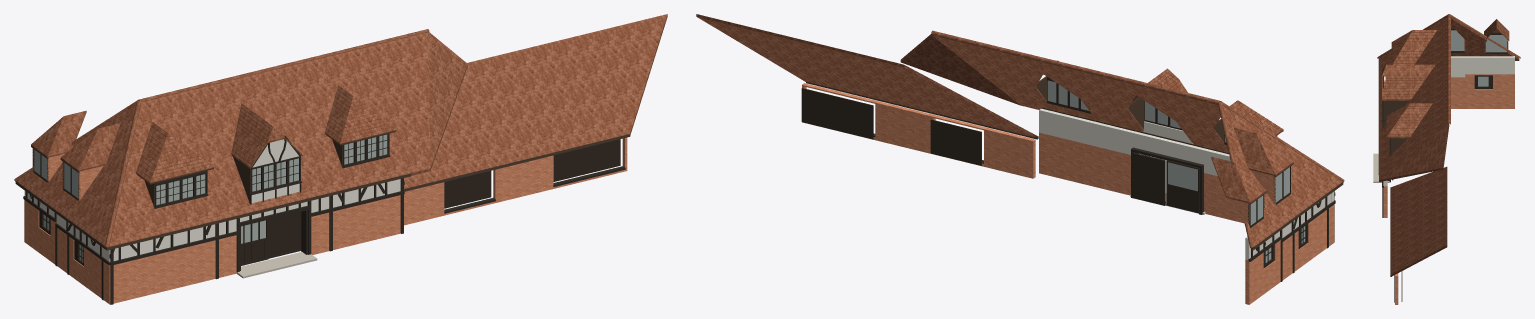
Rendered from changning-sassoon-villa-service-wing-raw.glb.
3 views of the same model, side by side, from view 1: azimuth 30°, elevation 25°; view 2: azimuth 150°, elevation 25°; view 3: azimuth 270°, elevation 25° (orthographic). The views are drawn at different scales.
Parts seen in each view (by area): view 1: 沙逊别墅辅楼院面木构与老虎窗; view 2: 沙逊别墅辅楼院面木构与老虎窗; view 3: 沙逊别墅辅楼院面木构与老虎窗.
Boxes of the visible parts, <box> form: 沙逊别墅辅楼院面木构与老虎窗: <box>14,14,667,304</box>; 沙逊别墅辅楼院面木构与老虎窗: <box>696,14,1344,304</box>; 沙逊别墅辅楼院面木构与老虎窗: <box>1373,14,1520,304</box>.
Bounding box in the file's own units: 30.54 × 7.51 × 8.34.
Materials: 8 (2 with a texture image).
